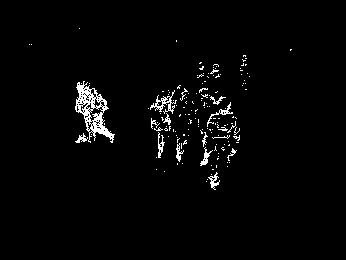person: (200, 98, 241, 189), (71, 81, 117, 147), (165, 82, 193, 165), (146, 86, 174, 158)
